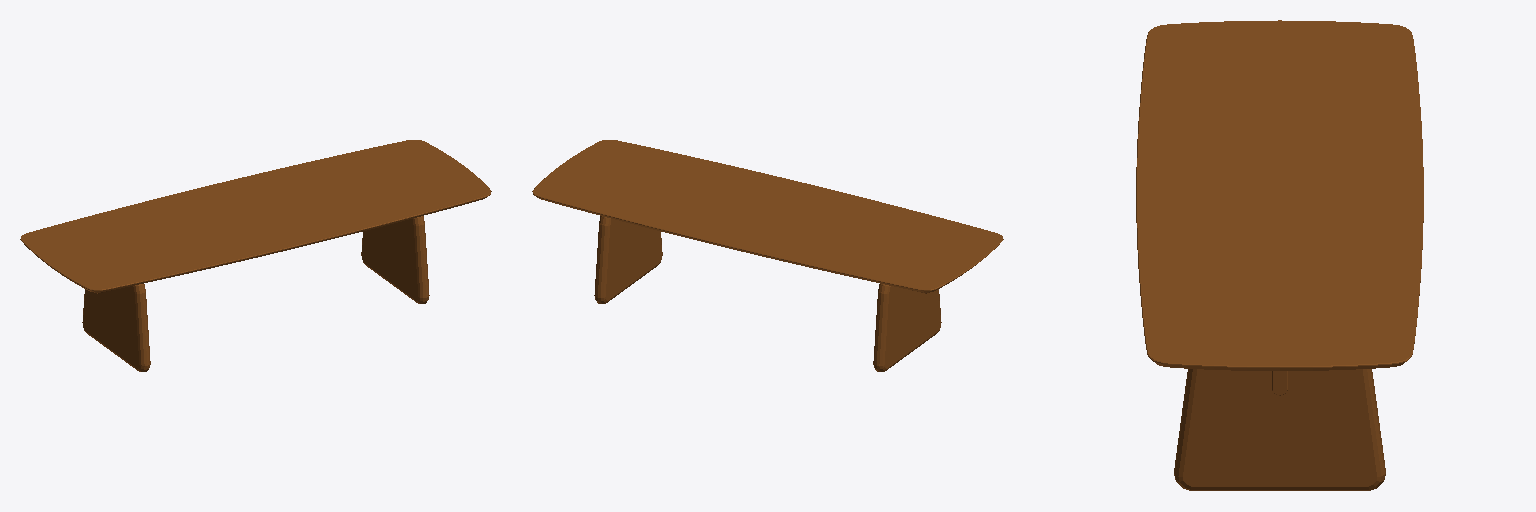
URDF robot description (table_description):
<?xml version="1.0" ?>
<!-- =================================================================================== -->
<!-- |    Dining table (Sutherland Arlette 305) for dual robot cooperative manipulation | -->
<!-- |    Mesh: table.obj (Blender Y-up, rotated 90° around X for ROS Z-up)            | -->
<!-- |    Actual size: ~3.05m (L) x 1.07m (W) x 0.74m (H)                             | -->
<!-- |    Origin at center of tabletop top surface                                      | -->
<!-- =================================================================================== -->
<robot name="table_description">
  <!-- Material definition (RViz only, Gazebo uses OBJ/MTL textures) -->
  <material name="wood_brown">
    <color rgba="0.55 0.35 0.17 1.0"/>
  </material>

  <!-- Table link -->
  <!-- Origin at center of tabletop top surface -->
  <link name="table">
    <inertial>
      <mass value="5.0"/>
      <origin rpy="0 0 0" xyz="0 0 -0.37"/>
      <inertia ixx="0.705" ixy="0.0" ixz="0.0" iyy="4.104" iyz="0.0" izz="4.353"/>
    </inertial>
    <visual>
      <geometry>
        <mesh filename="package://ocs2_multi_robot/assets/robot/b1z1_description/meshes/table.obj"/>
      </geometry>
      <origin rpy="1.5708 0 0" xyz="0 0 -0.74"/>
      <material name="wood_brown"/>
    </visual>
    <collision>
      <geometry>
        <mesh filename="package://ocs2_multi_robot/assets/robot/b1z1_description/meshes/table.obj"/>
      </geometry>
      <origin rpy="1.5708 0 0" xyz="0 0 -0.74"/>
    </collision>
  </link>

  <!-- IMU sensor link -->
  <joint name="imu_joint" type="fixed">
    <parent link="table"/>
    <child link="table_imu_link"/>
    <origin rpy="0 0 0" xyz="0 0 -0.025"/>
  </joint>
  <link name="table_imu_link">
    <inertial>
      <mass value="0.001"/>
      <origin rpy="0 0 0" xyz="0 0 0"/>
      <inertia ixx="0.0001" ixy="0" ixz="0" iyy="0.0001" iyz="0" izz="0.0001"/>
    </inertial>
    <visual>
      <origin rpy="0 0 0" xyz="0 0 0"/>
      <geometry>
        <box size="0.001 0.001 0.001"/>
      </geometry>
    </visual>
    <collision>
      <origin rpy="0 0 0" xyz="0 0 0"/>
      <geometry>
        <box size="0.001 0.001 0.001"/>
      </geometry>
    </collision>
  </link>
  <gazebo reference="table_imu_link">
    <gravity>true</gravity>
    <sensor name="imu_sensor" type="imu">
      <always_on>true</always_on>
      <update_rate>1000</update_rate>
      <visualize>true</visualize>
      <topic>__default_topic__</topic>
      <plugin filename="libgazebo_ros_imu_sensor.so" name="imu_plugin">
        <topicName>cargo_imu</topicName>
        <bodyName>imu_link</bodyName>
        <updateRateHZ>1000.0</updateRateHZ>
        <gaussianNoise>0.0</gaussianNoise>
        <xyzOffset>0 0 0</xyzOffset>
        <rpyOffset>0 0 0</rpyOffset>
        <frameName>imu_link</frameName>
      </plugin>
      <pose>0 0 0 0 0 0</pose>
    </sensor>
  </gazebo>

</robot>

--- Render facts (derived) ---
3 views of the same robot in one strip: view 1: azimuth 30°, elevation 25°; view 2: azimuth 150°, elevation 25°; view 3: azimuth 270°, elevation 25° (orthographic).
Model table_description with 2 links and 1 joints (1 fixed), rooted at table, posed every joint at zero.
Links seen in each view (by area): view 1: table; view 2: table; view 3: table.
Link boxes in pixels (<box>): table: <box>20,140,491,371</box>; table: <box>532,140,1003,371</box>; table: <box>1136,20,1423,490</box>.
Bounding box of the posed robot: 3.05 × 1.07 × 0.74 m (x, y, z).
1 mesh visuals loaded from 1 distinct referenced files (1 OBJ).
